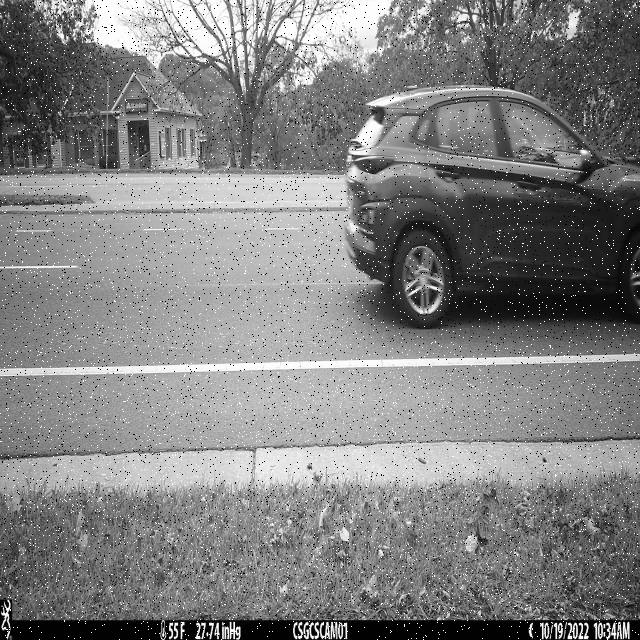SUV: (344, 86, 640, 331)
